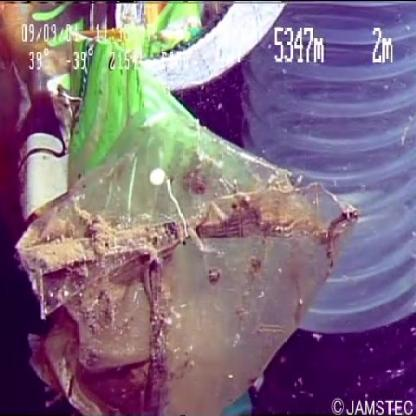Rác: (12, 96, 360, 416)
